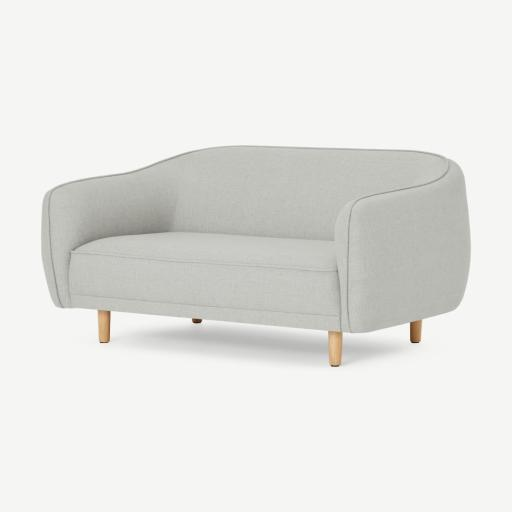back_cushion: (166, 147, 447, 240)
left_arm: (335, 163, 470, 333)
one-seater: (42, 146, 470, 366)
right_arm: (42, 162, 173, 307)
seat_cushion: (67, 233, 340, 330)
